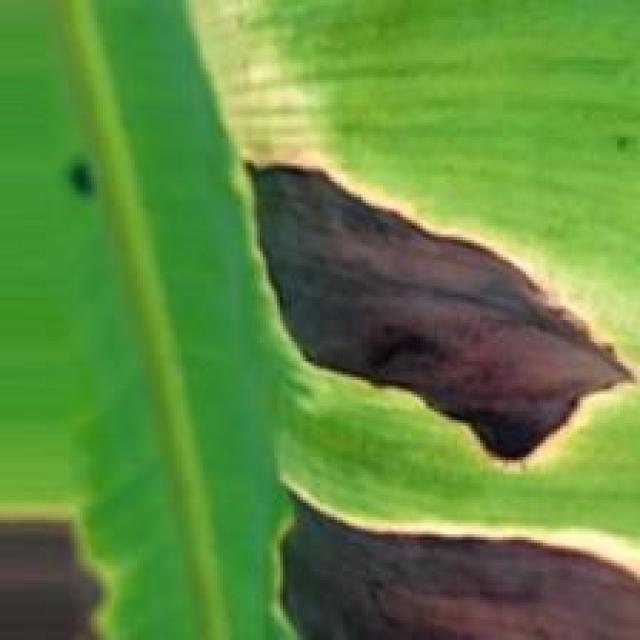Bacterial_spot: (226, 148, 640, 475), (237, 465, 640, 640), (5, 456, 120, 640), (70, 145, 104, 216)
